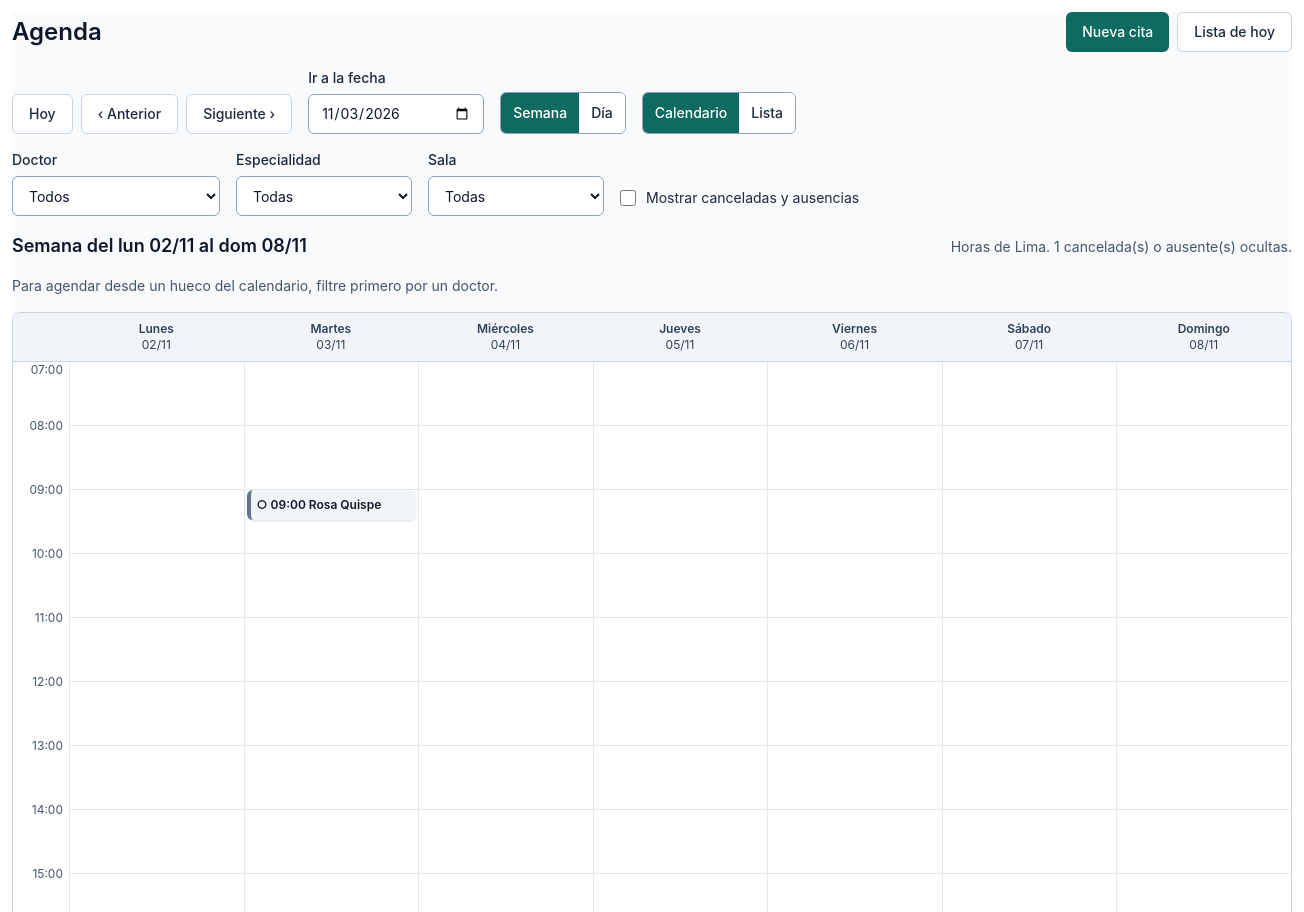
Test case: AgendaWorkspace › «Mostrar canceladas» las incluye, con su estado en el nombre accesible
Expected: the button "○ 09:00 Rosa Quispe" is shown, [247,490,416,520]
What coordinates should you click on to do the following:
click the checkbox labelled "Mostrar canceladas y ausencias"
I would click on:
 (628, 198)
Its box is [620,190,636,206].
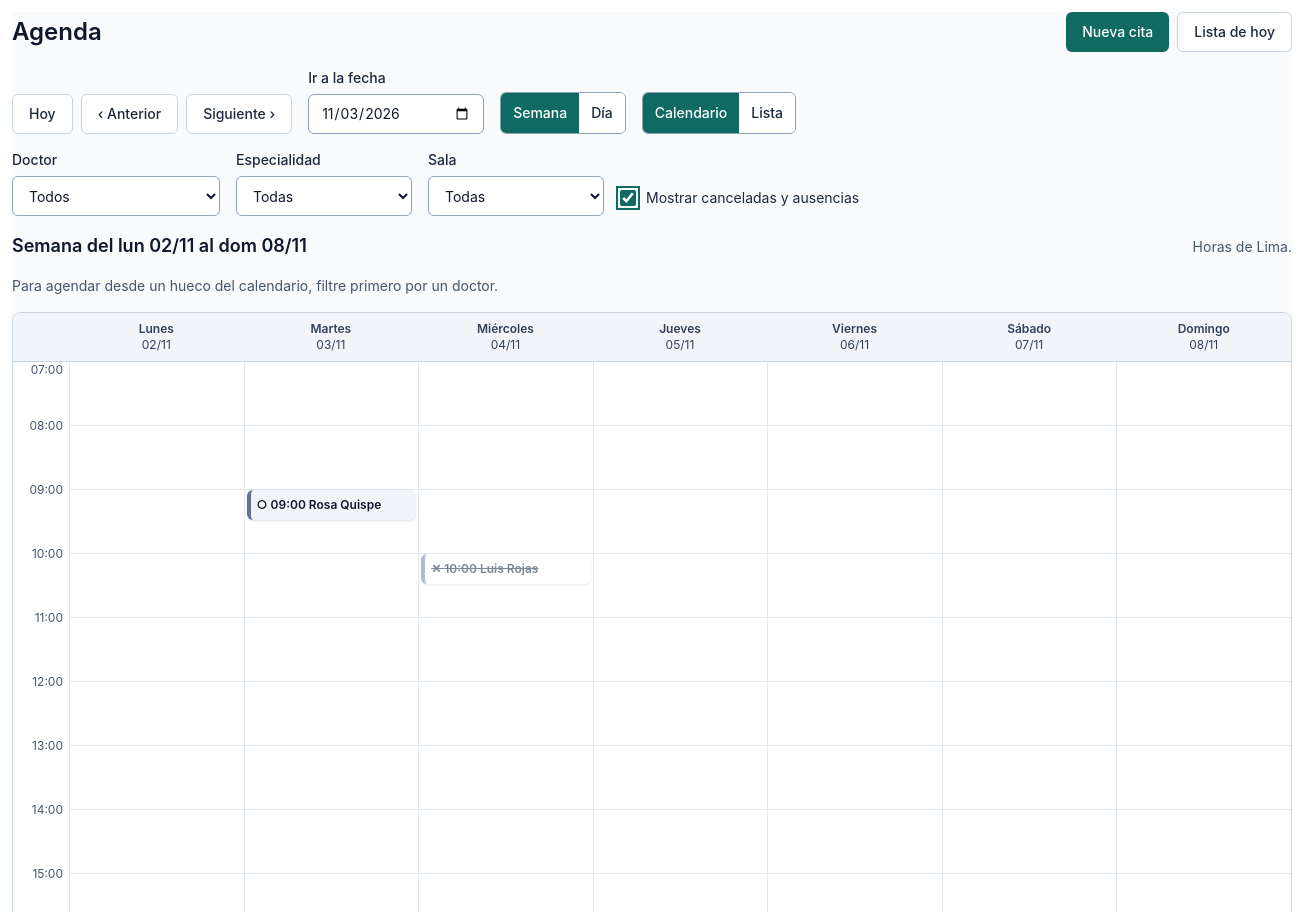
Now the button "✕ 10:00 Luis Rojas" is shown, box [421,554,591,584]
